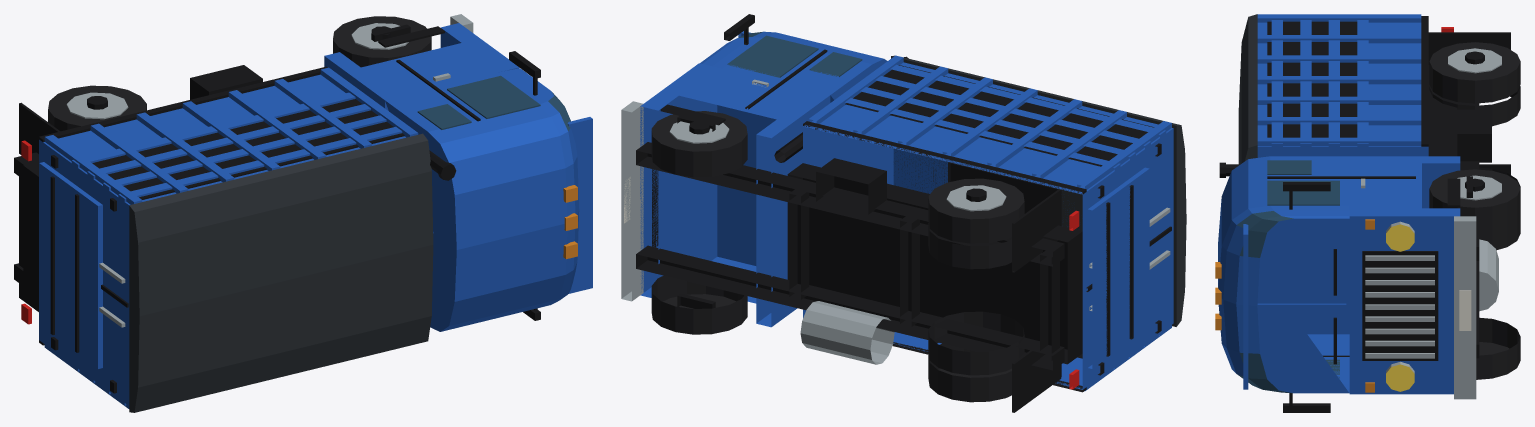
3 views of the same model, side by side, from view 1: azimuth 30°, elevation 25°; view 2: azimuth 150°, elevation 25°; view 3: azimuth 270°, elevation 25° (orthographic). The views are drawn at different scales.
Visible parts, largest first — view 1: default_roof, default_cab_upper, default_body, default_ramp, default_side1_-3.45_2.70_black, default_cab_arch, default_rear_out1, default_front1, default_visor, default_side_window1, default_subframe, default_side1_-3.60_2.70_cc1 (+19 smaller); view 2: default_body, default_subframe, default_cab_arch, default_chassis-1, default_ramp, default_cab_front, default_side1_-3.45_2.70_black, default_cab_back, default_chassis1, default_rear_out1, default_front1, default_roof (+32 smaller); view 3: default_cab_upper, default_cab_front, default_body, default_grille, default_side1_-3.45_2.70_black, default_rear_out1, default_bumper, default_front1, default_cab_arch, default_roof, default_front-1, default_battery_box (+40 smaller).
Part boxes in pixels (x1,y1,x2,y2): default_roof: (129,133,433,412); default_cab_upper: (385,68,579,331); default_body: (39,74,405,405); default_ramp: (39,162,102,368); default_side1_-3.45_2.70_black: (92,99,404,199); default_cab_arch: (361,43,500,233); default_rear_out1: (48,85,146,131); default_front1: (333,16,431,67); default_visor: (567,117,592,293); default_side_window1: (447,75,540,118); default_subframe: (23,161,38,301); default_side1_-3.60_2.70_cc1: (71,92,355,167); default_body: (803,62,1173,389); default_subframe: (787,163,1082,364); default_cab_arch: (679,67,814,303); default_chassis-1: (636,245,1064,370); default_ramp: (1087,167,1149,368); default_cab_front: (640,63,717,297); default_side1_-3.45_2.70_black: (845,65,1154,166); default_cab_back: (756,91,830,327); default_chassis1: (636,142,1064,266); default_rear_out1: (928,178,1024,243); default_front1: (651,111,747,177); default_roof: (891,55,1186,326); default_cab_upper: (1218,156,1349,393); default_cab_front: (1349,208,1460,394); default_body: (1257,22,1428,330); default_grille: (1362,251,1438,360); default_side1_-3.45_2.70_black: (1267,21,1357,137); default_rear_out1: (1429,42,1520,103); default_bumper: (1454,216,1476,399); default_front1: (1429,169,1520,231); default_cab_arch: (1349,163,1421,208); default_roof: (1238,14,1257,164); default_front-1: (1476,317,1520,379); default_battery_box: (1457,109,1491,162).
Bounding box in the file's own units: 7.67 × 3.98 × 4.82.
